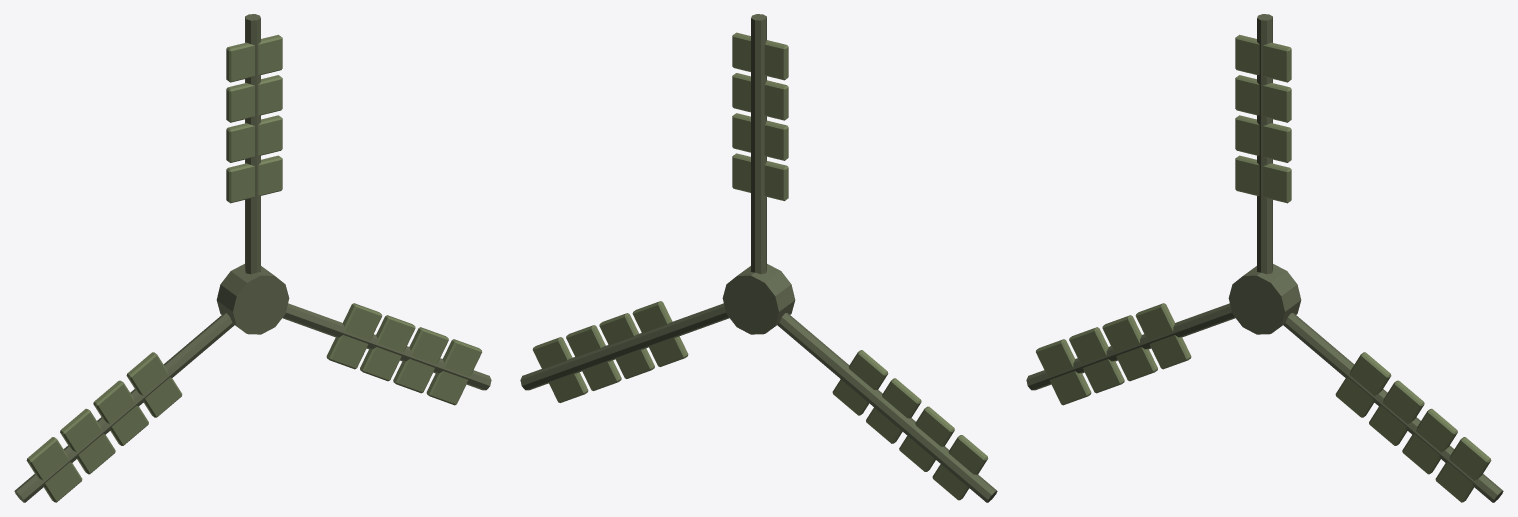
File: windmill_blades.obj
The picture shows the model from 3 angles, left to right: view 1: azimuth 30°, elevation 25°; view 2: azimuth 150°, elevation 25°; view 3: azimuth 330°, elevation 25°; orthographic projection.
Parts seen in each view (by area): view 1: windmill_blades; view 2: windmill_blades; view 3: windmill_blades.
Boxes of the visible parts, x1=… form: windmill_blades: x1=14, y1=14, x2=491, y2=502; windmill_blades: x1=520, y1=14, x2=997, y2=502; windmill_blades: x1=1026, y1=14, x2=1503, y2=502.
Size of the model in its own units: 3.69 by 3.24 by 0.22.
Materials: 1 (1 with a texture image).
